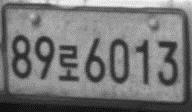0: (108, 38, 129, 84)
1: (134, 39, 154, 86)
3: (156, 39, 179, 87)
6: (83, 38, 105, 83)
8: (9, 33, 32, 79)
9: (33, 34, 55, 81)
로: (57, 44, 80, 82)
